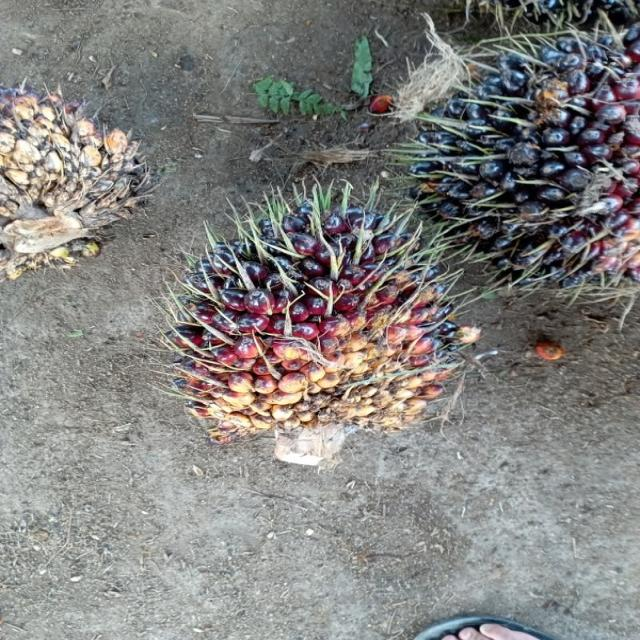fraksi 00: (350, 22, 640, 338)
